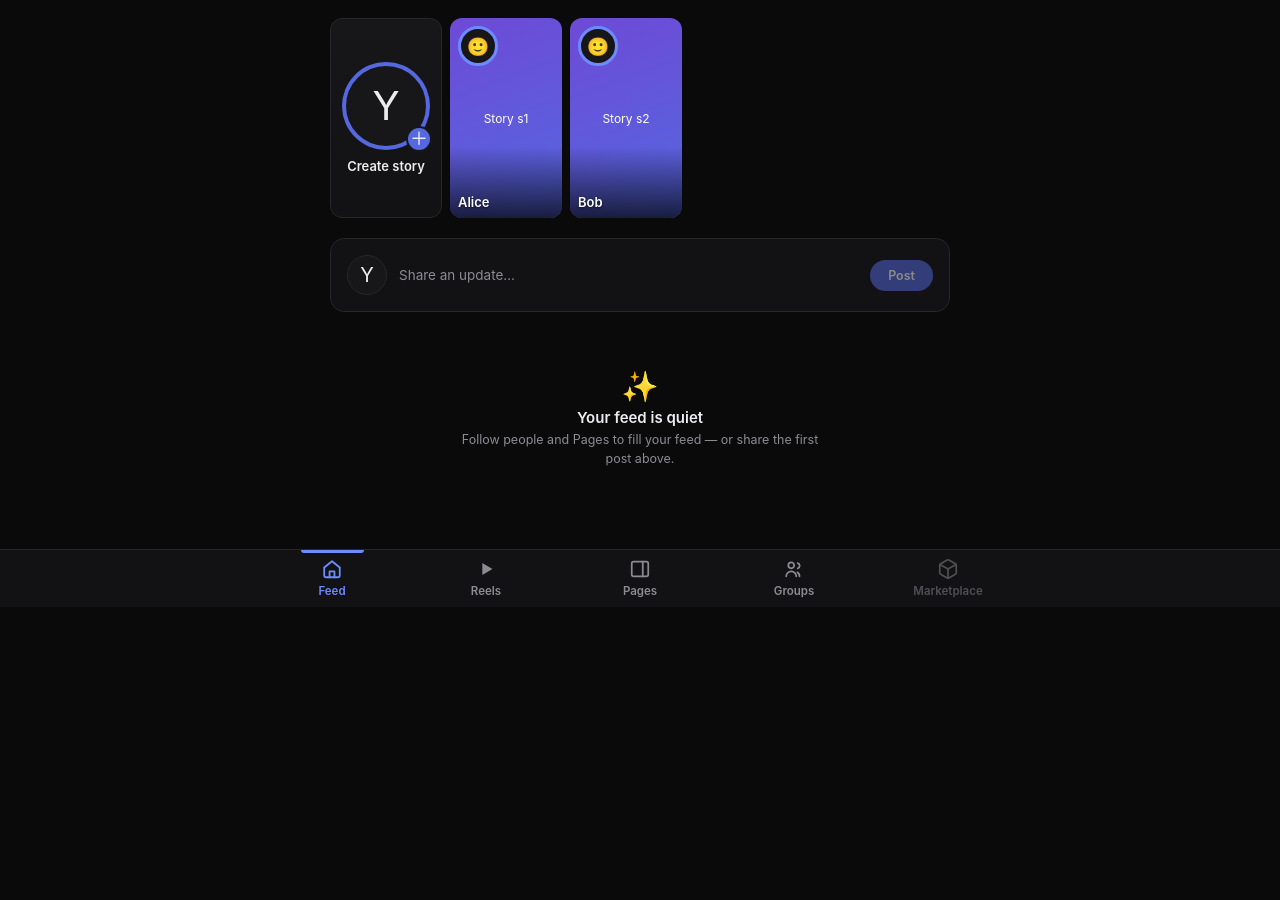
Scenario: FeedView action hierarchy › pauses and resumes story progression (EXP-1)
Click the button "Story s1 🙂 Alice" at point(506, 118), box [450,18,562,218]
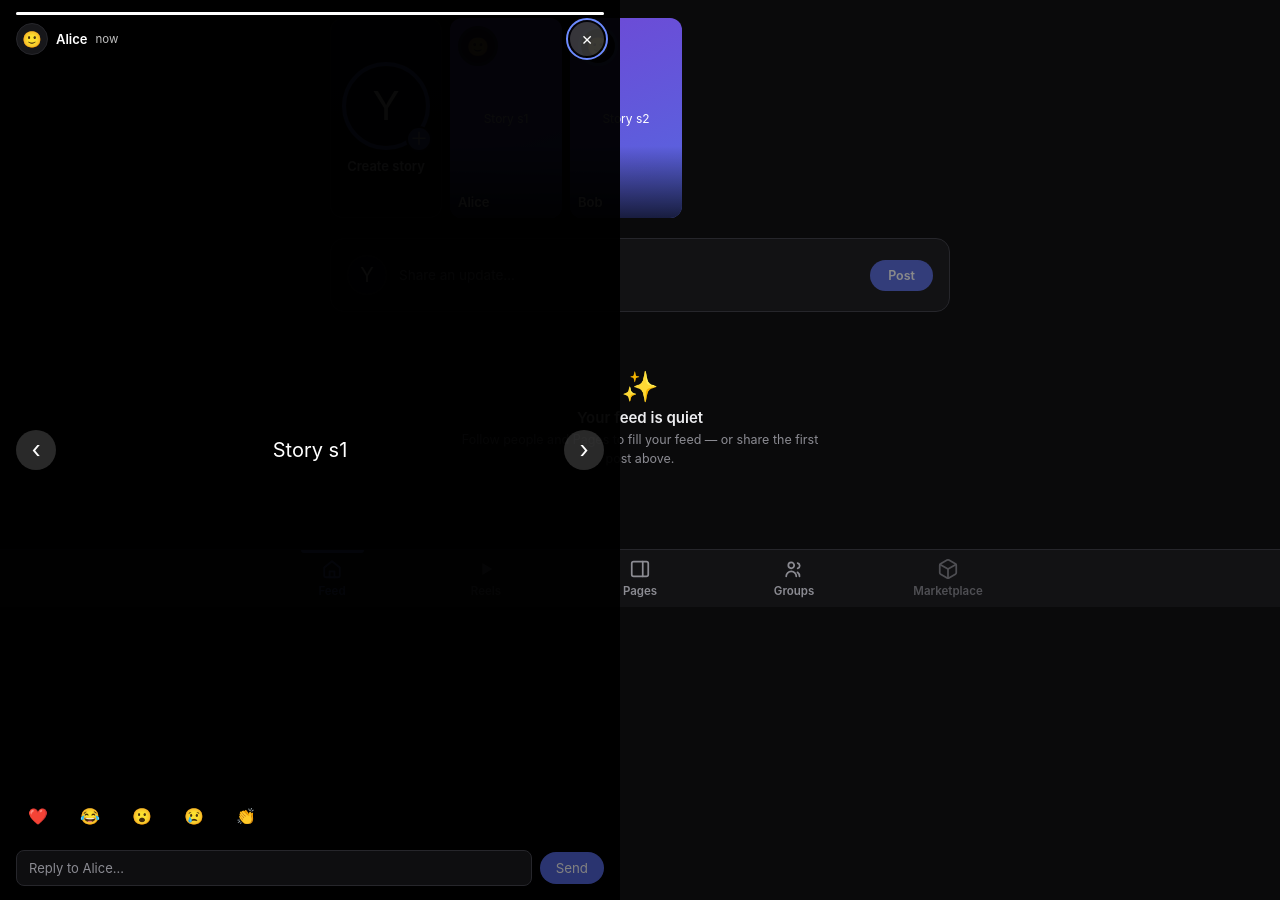
Expected: the dialog named "Story by Alice" is shown, [0,0,620,899]
Note: Space pauses.
Press Space
Wait 8000 ms
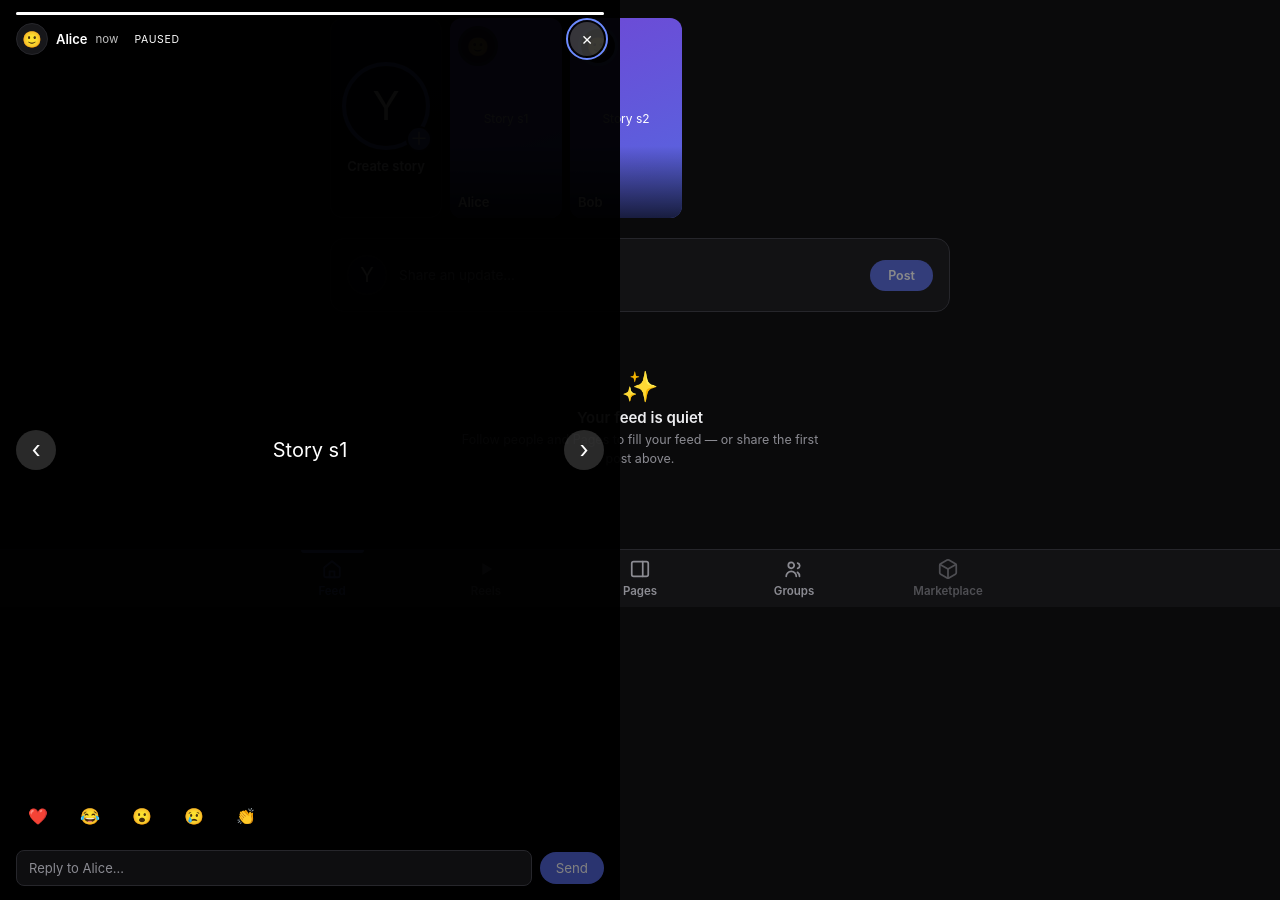
Expected: the dialog named "Story by Alice" is shown, [0,0,620,899]
Expected: the message "Paused" is shown, [126,28,188,50]
Press Space
Wait 8000 ms
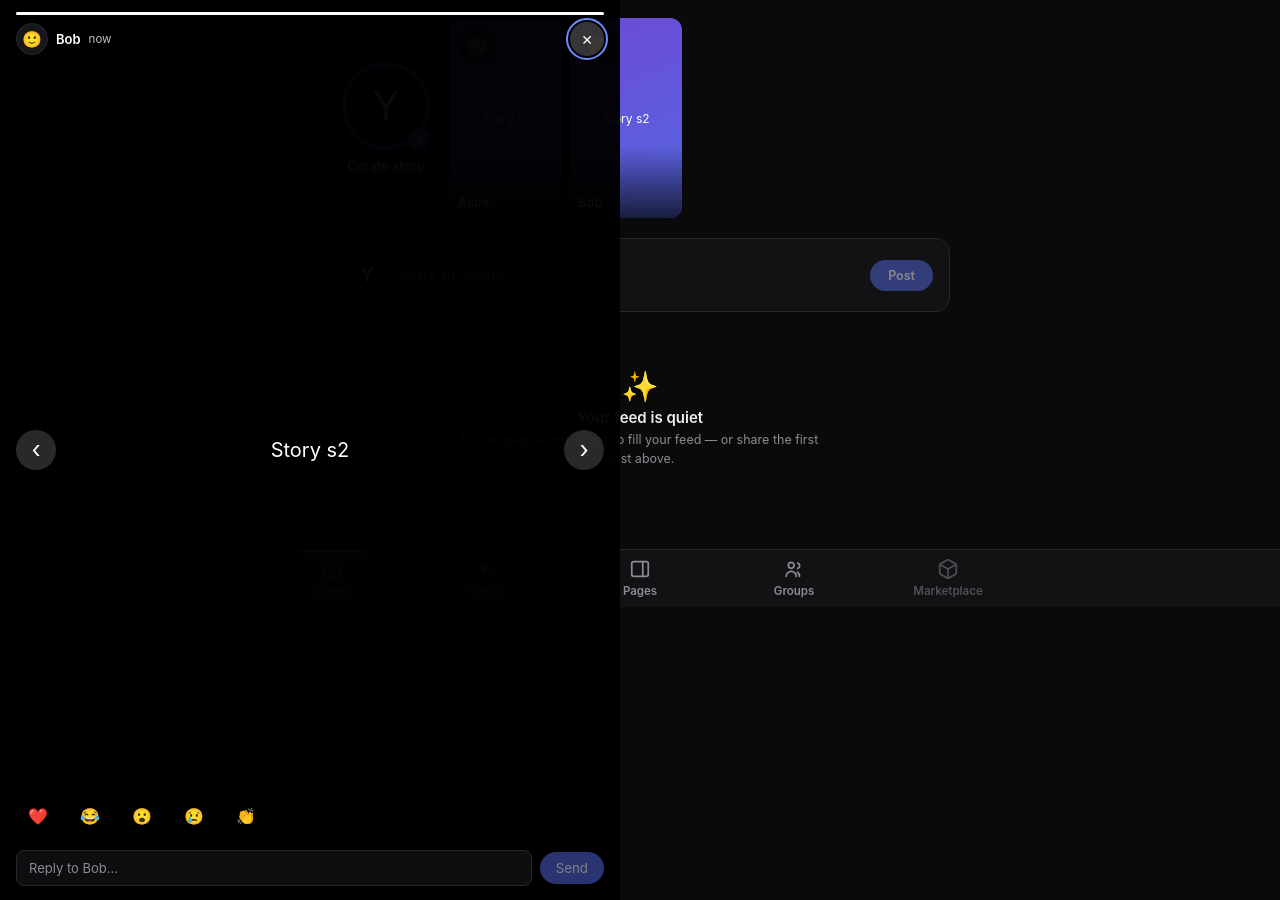
Expected: the message with class "story-paused" is gone
Expected: the dialog named "Story by Bob" is shown, [0,0,620,899]
